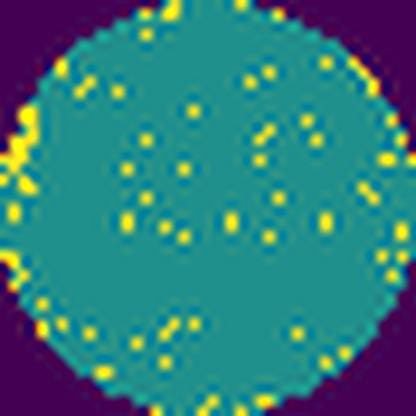Edge-Loc: (0, 108, 42, 220), (0, 244, 35, 298)
